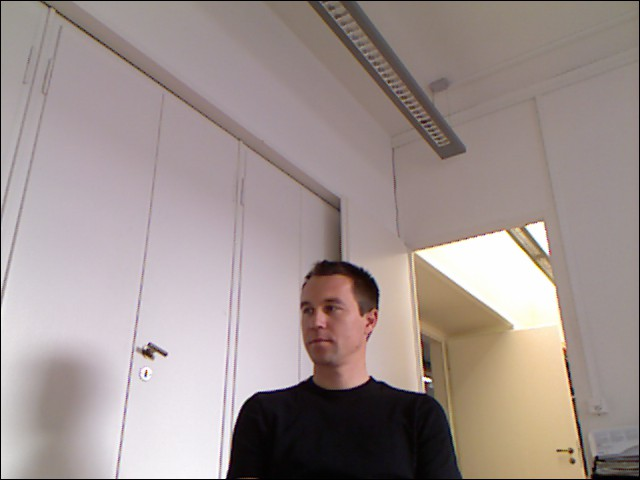deflection: (238, 263, 442, 456)
